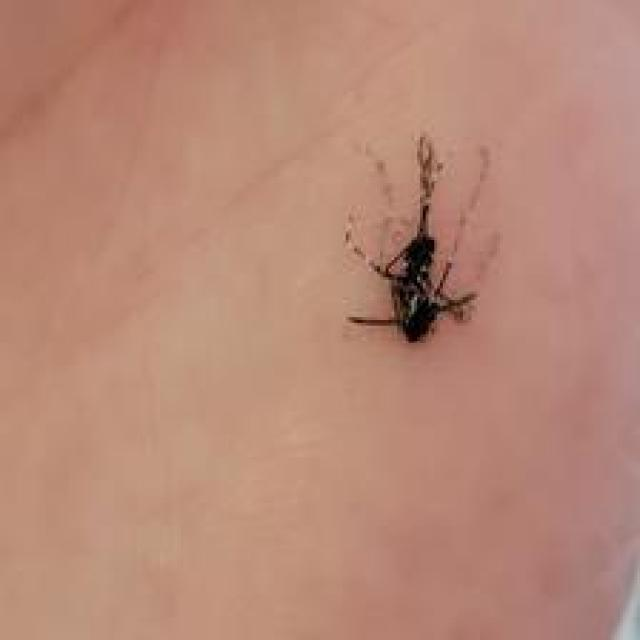Aedes albopictus: (341, 131, 496, 346)
